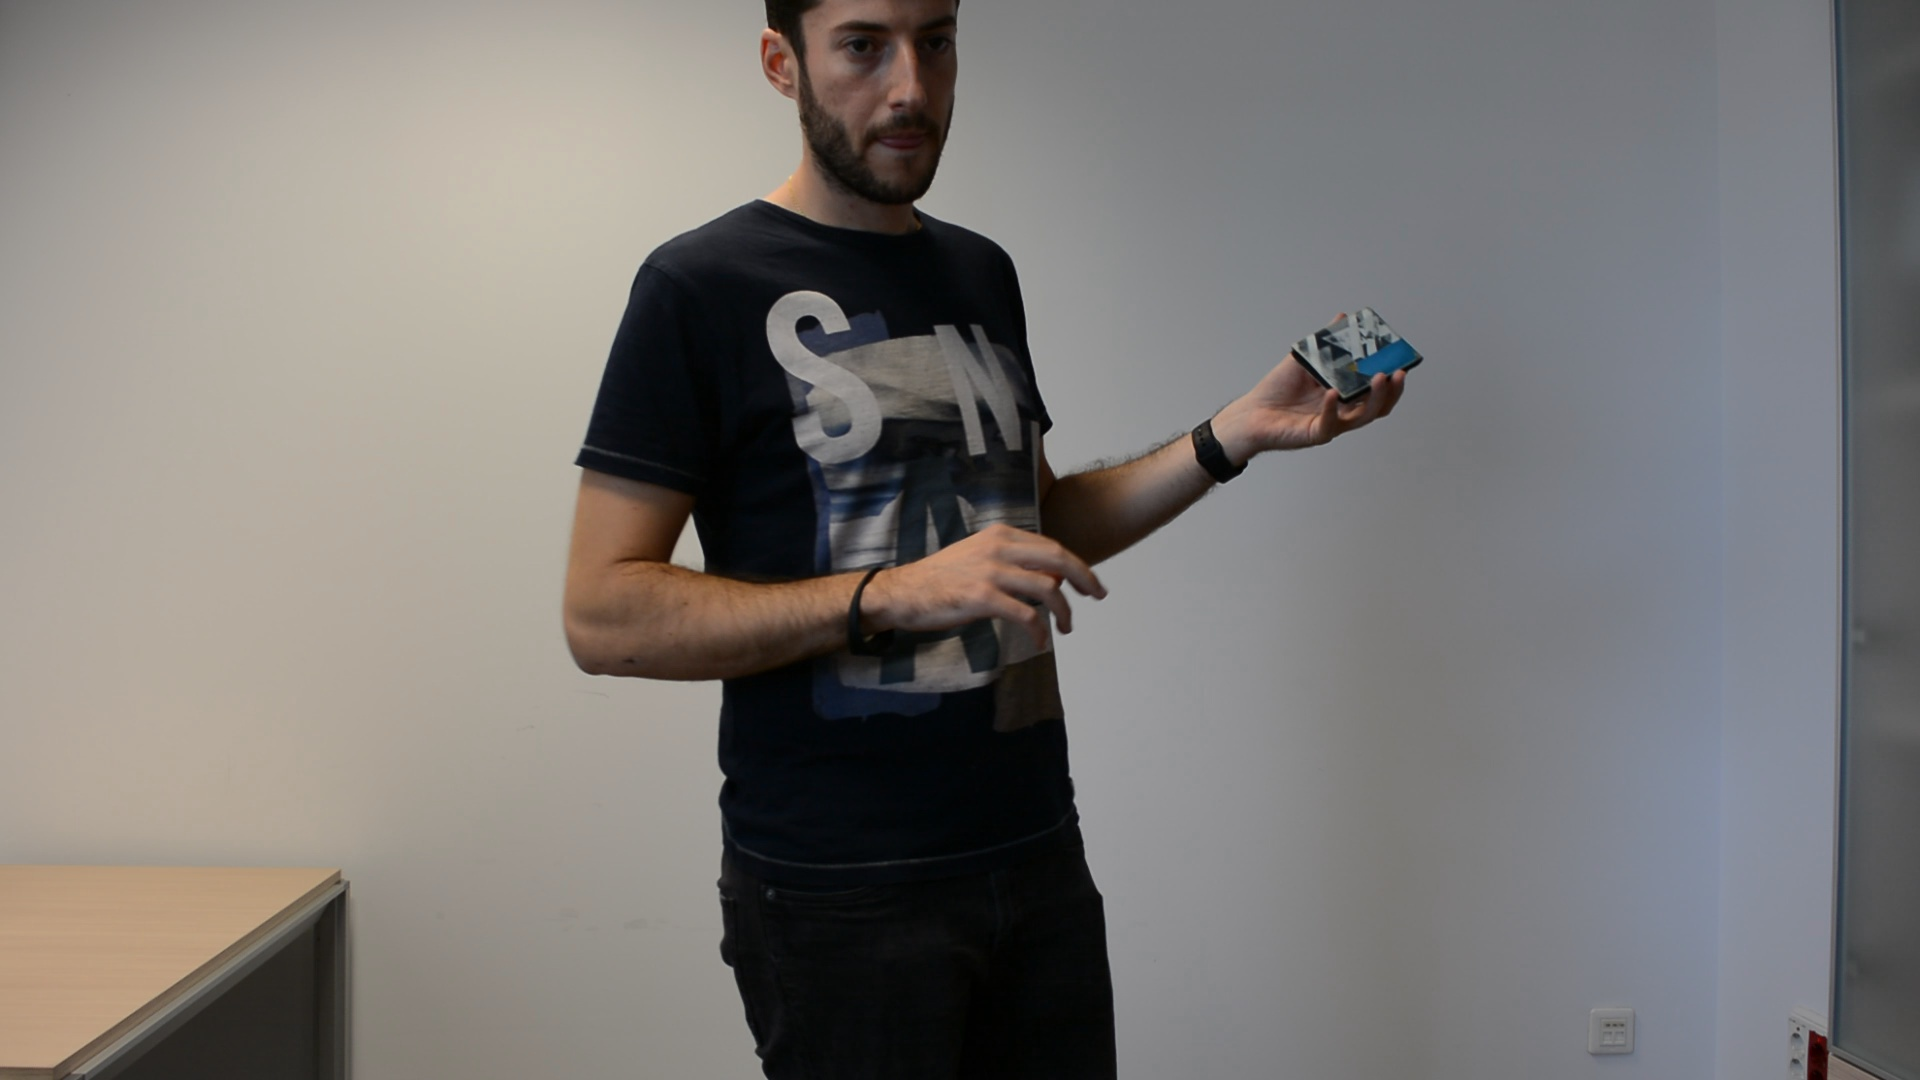monedero: (1288, 305, 1428, 405)
